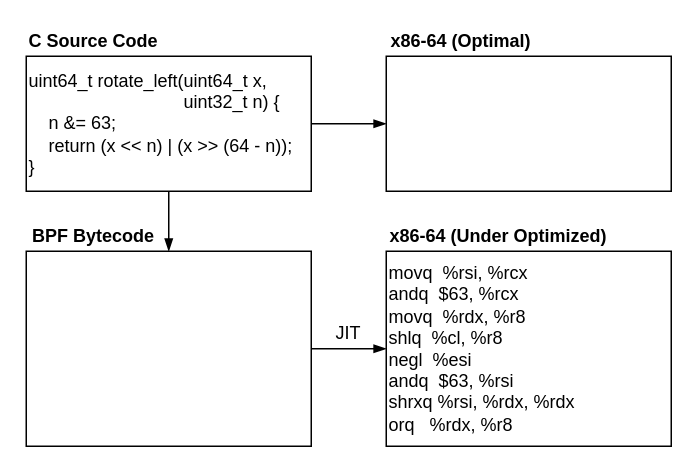
Some shapes in this 698 by 473 pixel diagram are drawn without their labels. The shapes that lost their labels are listed below. From the top down, each one's centre as x and y in pixels, then its label:
At point (528, 123): "movl %esi, %ecx movq %rdi, %rax rolq %cl, %rax".
At point (168, 348): "r0 = r1 w2 &= 0x3f w1 = 0x40 w1 -= w2 r3 = r0 r3 <<= r2 r0 >>= r1 r0 |= r3".
